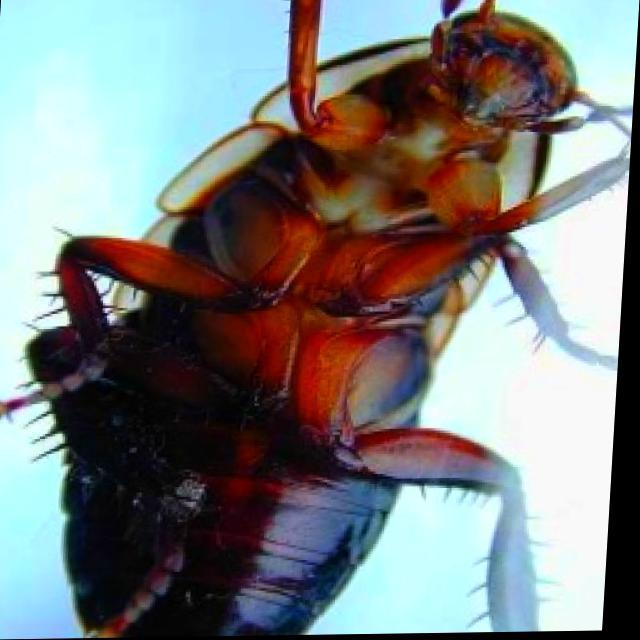cockroach: (6, 3, 627, 636)
